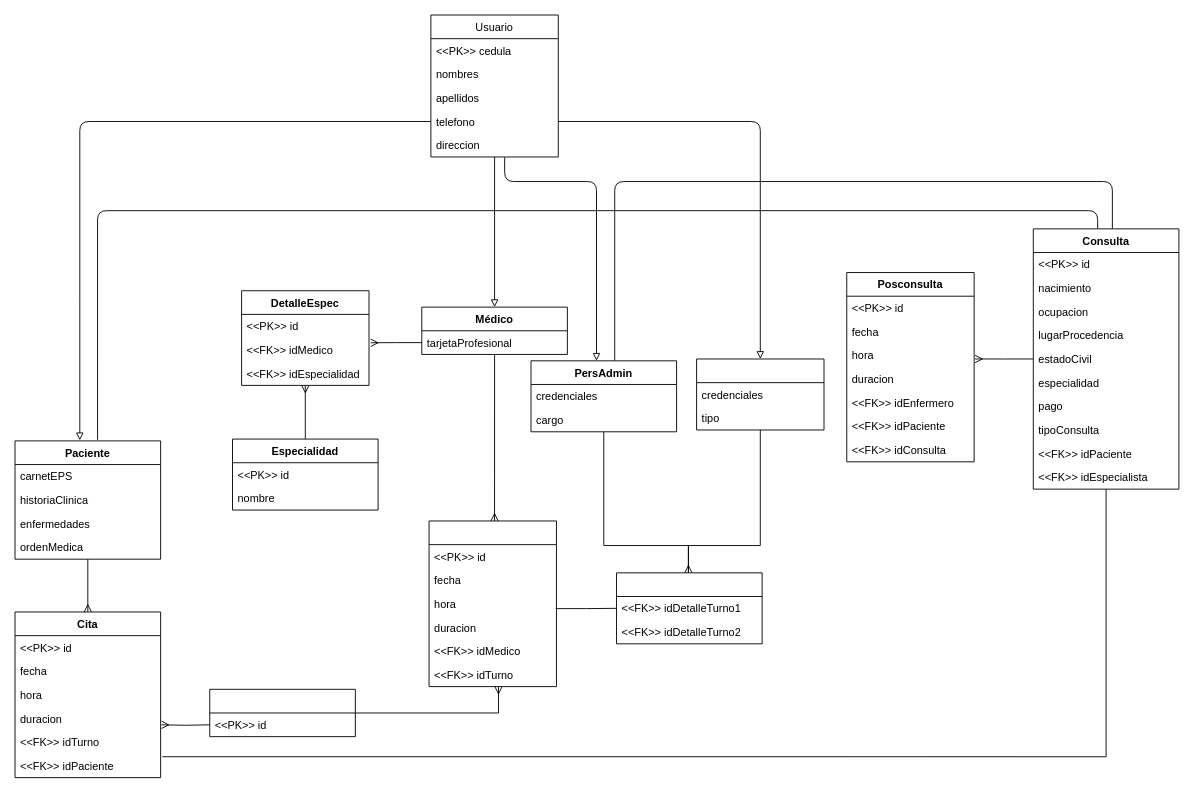
This 1194x793 diagram has some shape labels left out. Each missing label, with the box of its shape:
AdmonTurno: (616, 572, 762, 644)
DetalleTurno: (428, 520, 556, 687)
Enfermera: (696, 358, 824, 430)
Turno: (209, 688, 355, 737)
